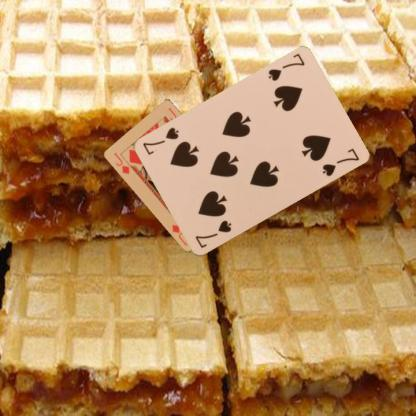7s: (192, 217, 233, 250), (265, 51, 306, 83)
Jd: (112, 150, 131, 175)
